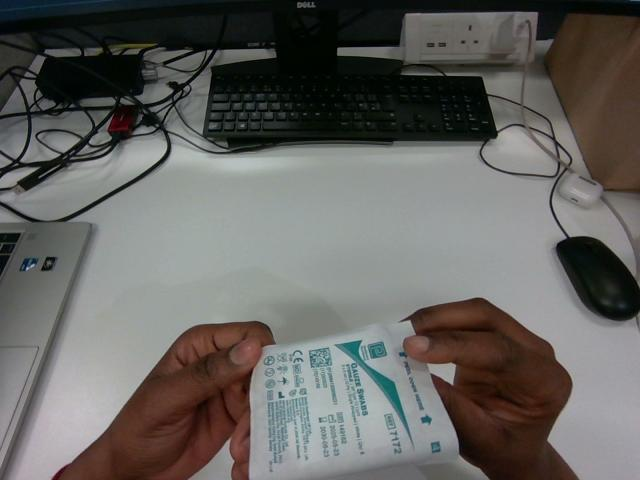gauze: (249, 322, 457, 479)
